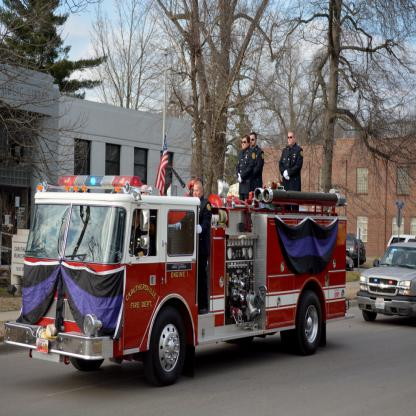Truck: (5, 53, 354, 387)
